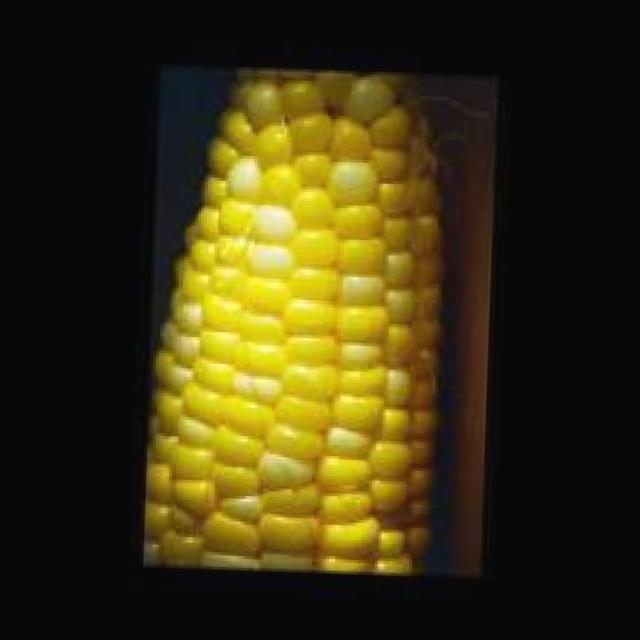corn: (143, 71, 495, 578)
